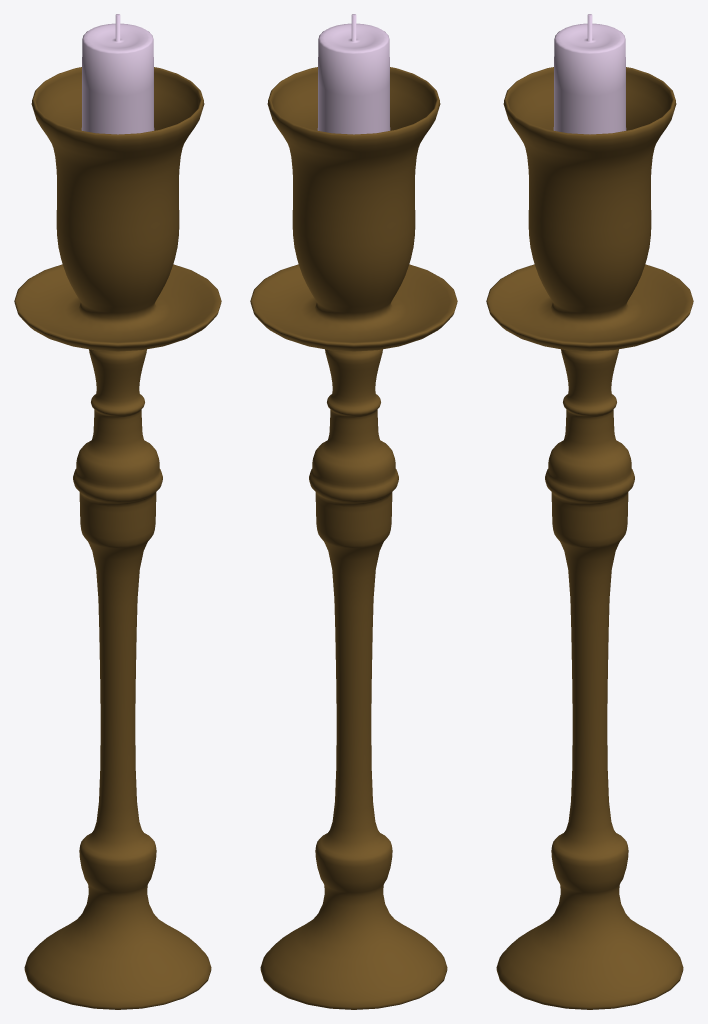
Rendered from Candle.fbx.
3 renders of one model, left to right at view 1: azimuth 30°, elevation 25°; view 2: azimuth 150°, elevation 25°; view 3: azimuth 270°, elevation 25°, orthographic.
Visible parts, largest first — view 1: Candle; view 2: Candle; view 3: Candle.
Part boxes in pixels (box(x1,y1,x2,y2)): Candle: box(14, 14, 221, 1009); Candle: box(250, 14, 457, 1009); Candle: box(486, 14, 693, 1009).
Bounding box in the file's own units: 42.06 × 214 × 42.06.
